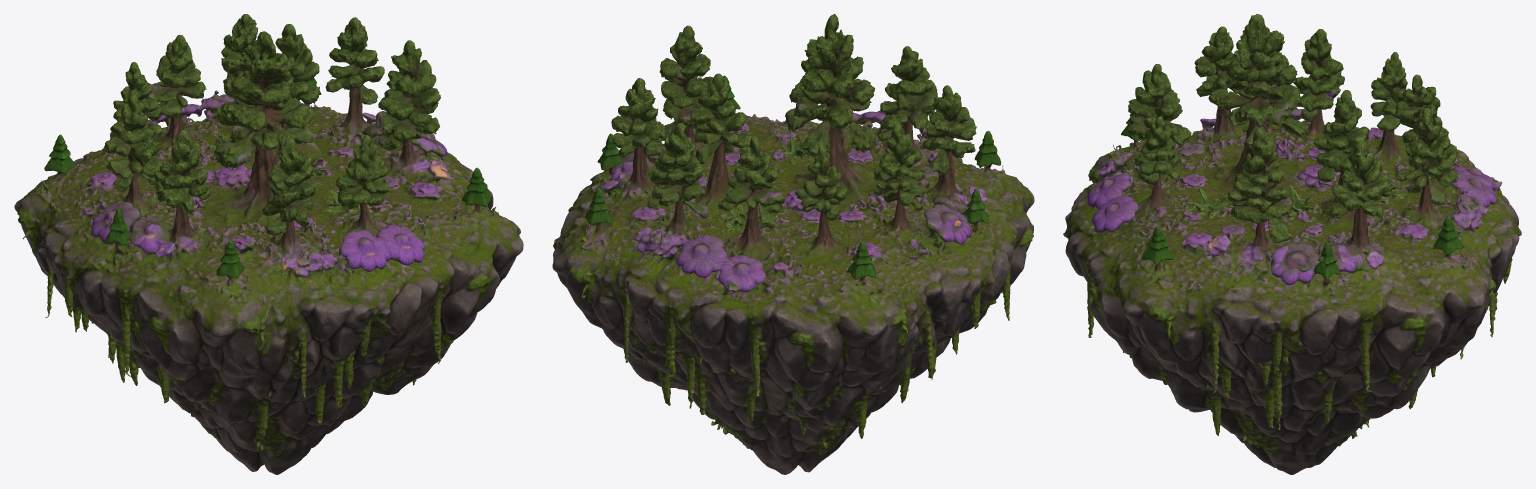
The model's file is island_meshy.glb.
The picture shows the model from 3 angles, left to right: view 1: azimuth 30°, elevation 25°; view 2: azimuth 150°, elevation 25°; view 3: azimuth 270°, elevation 25°; orthographic projection. The views are drawn at different scales.
Size of the model in its own units: 1.78 by 1.9 by 1.78.
1 material, 1 textured.
